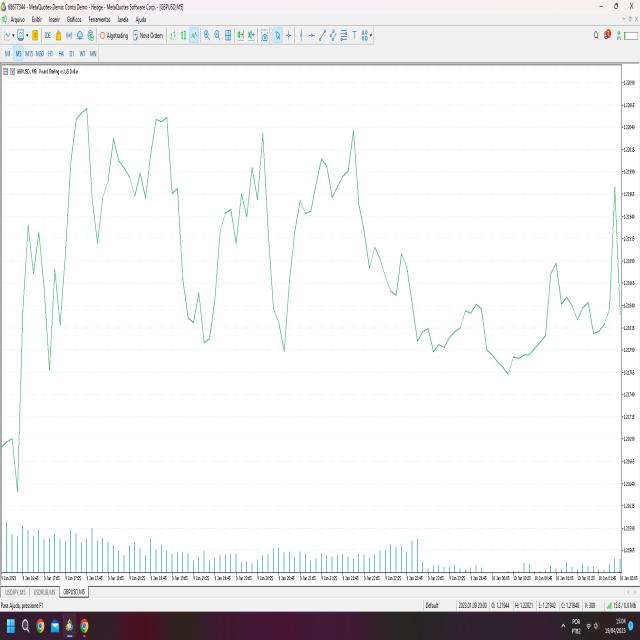bandeira_alta: (16, 213, 69, 502)
fundo_duplo: (162, 94, 304, 378)
